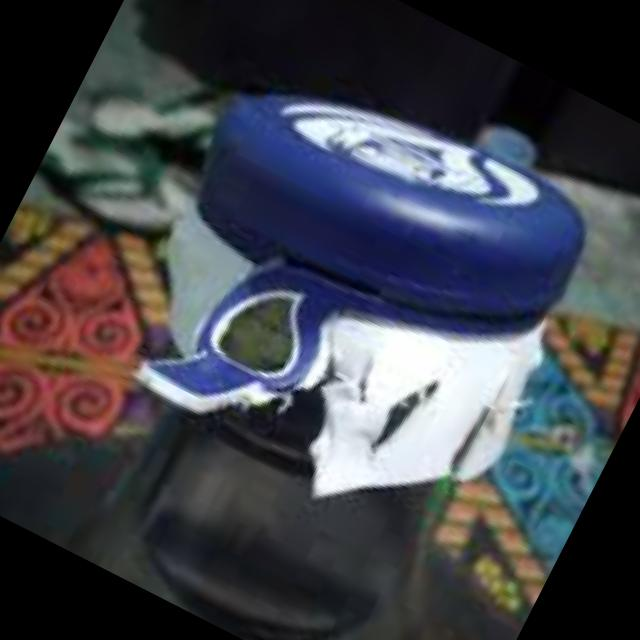TutupGalon: (11, 5, 640, 640)
